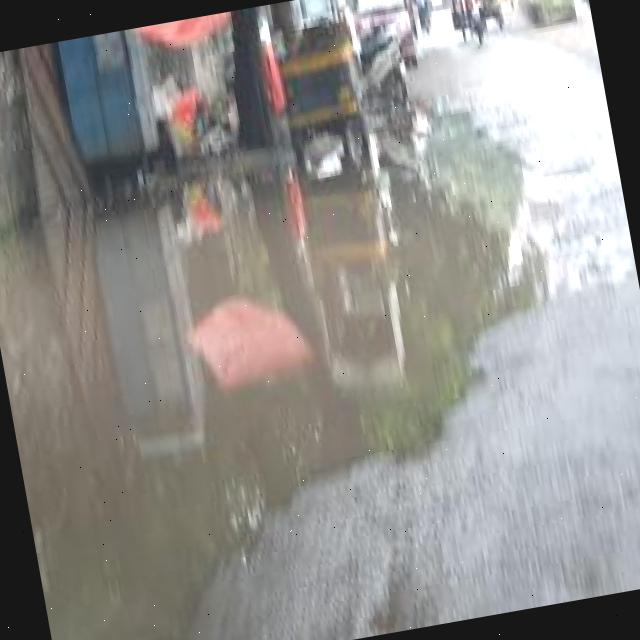waterlogging: (166, 154, 640, 576)
